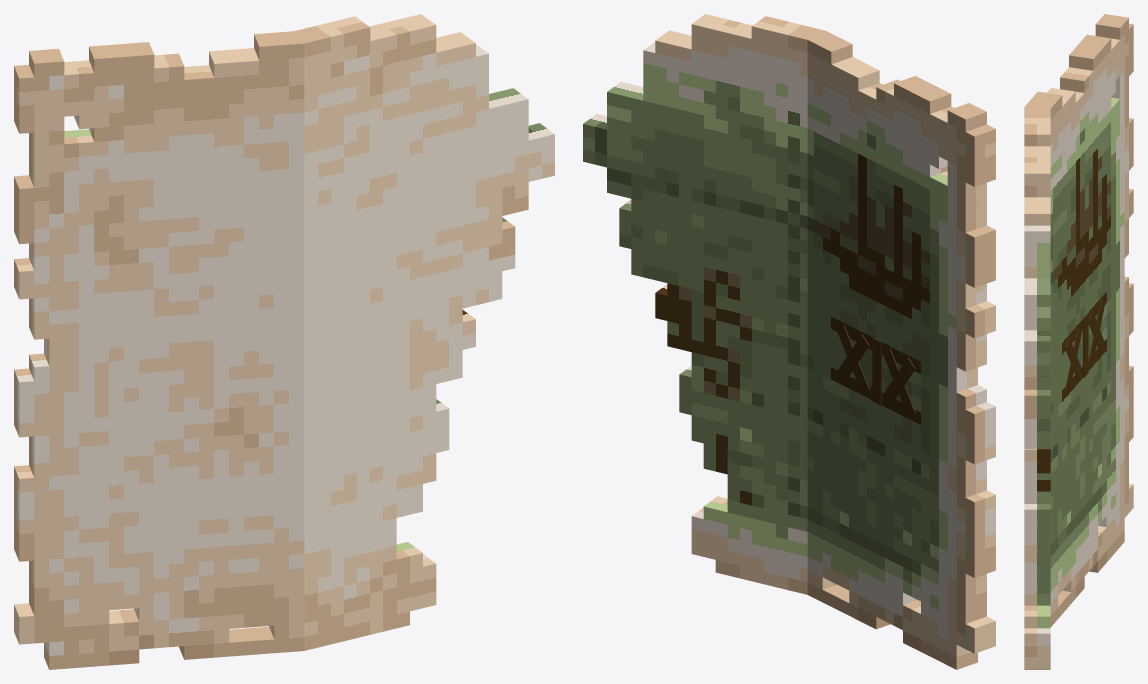
File: lost_page_07S_XIX.gltf
The picture shows the model from 3 angles, left to right: view 1: azimuth 30°, elevation 25°; view 2: azimuth 150°, elevation 25°; view 3: azimuth 270°, elevation 25°; orthographic projection. The views are drawn at different scales.
Visible parts, largest first — view 1: MapLeft$$(4)-Local, MapCenter$$(4)-Local; view 2: MapLeft$$(4)-Local, MapCenter$$(4)-Local, V01$$(1)-Local, V01-Local, I-Local; view 3: MapLeft$$(4)-Local, MapCenter$$(4)-Local, I-Local, V01-Local, V01$$(1)-Local, V02-Local, V02$$(1)-Local.
Boxes of the visible parts, x1,y1,x2,y2 form: MapLeft$$(4)-Local: [14, 31, 304, 669]; MapCenter$$(4)-Local: [294, 14, 554, 650]; MapLeft$$(4)-Local: [805, 31, 995, 669]; MapCenter$$(4)-Local: [583, 14, 825, 594]; V01$$(1)-Local: [882, 349, 916, 417]; V01-Local: [836, 326, 869, 393]; I-Local: [872, 338, 881, 405]; MapLeft$$(4)-Local: [1025, 14, 1133, 627]; MapCenter$$(4)-Local: [1024, 107, 1050, 669]; I-Local: [1083, 313, 1088, 377]; V01-Local: [1065, 337, 1082, 381]; V01$$(1)-Local: [1088, 311, 1105, 355]; V02-Local: [1065, 327, 1082, 392]; V02$$(1)-Local: [1088, 300, 1105, 365].
Bounding box in the file's own units: 36.85 × 44 × 8.38.
7 materials, 7 textured.
